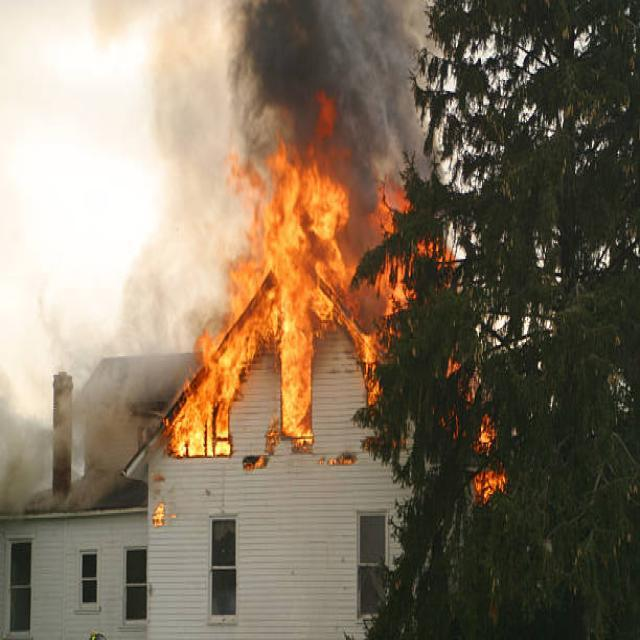Fire: (152, 100, 389, 453)
Smoke: (232, 0, 439, 201)
